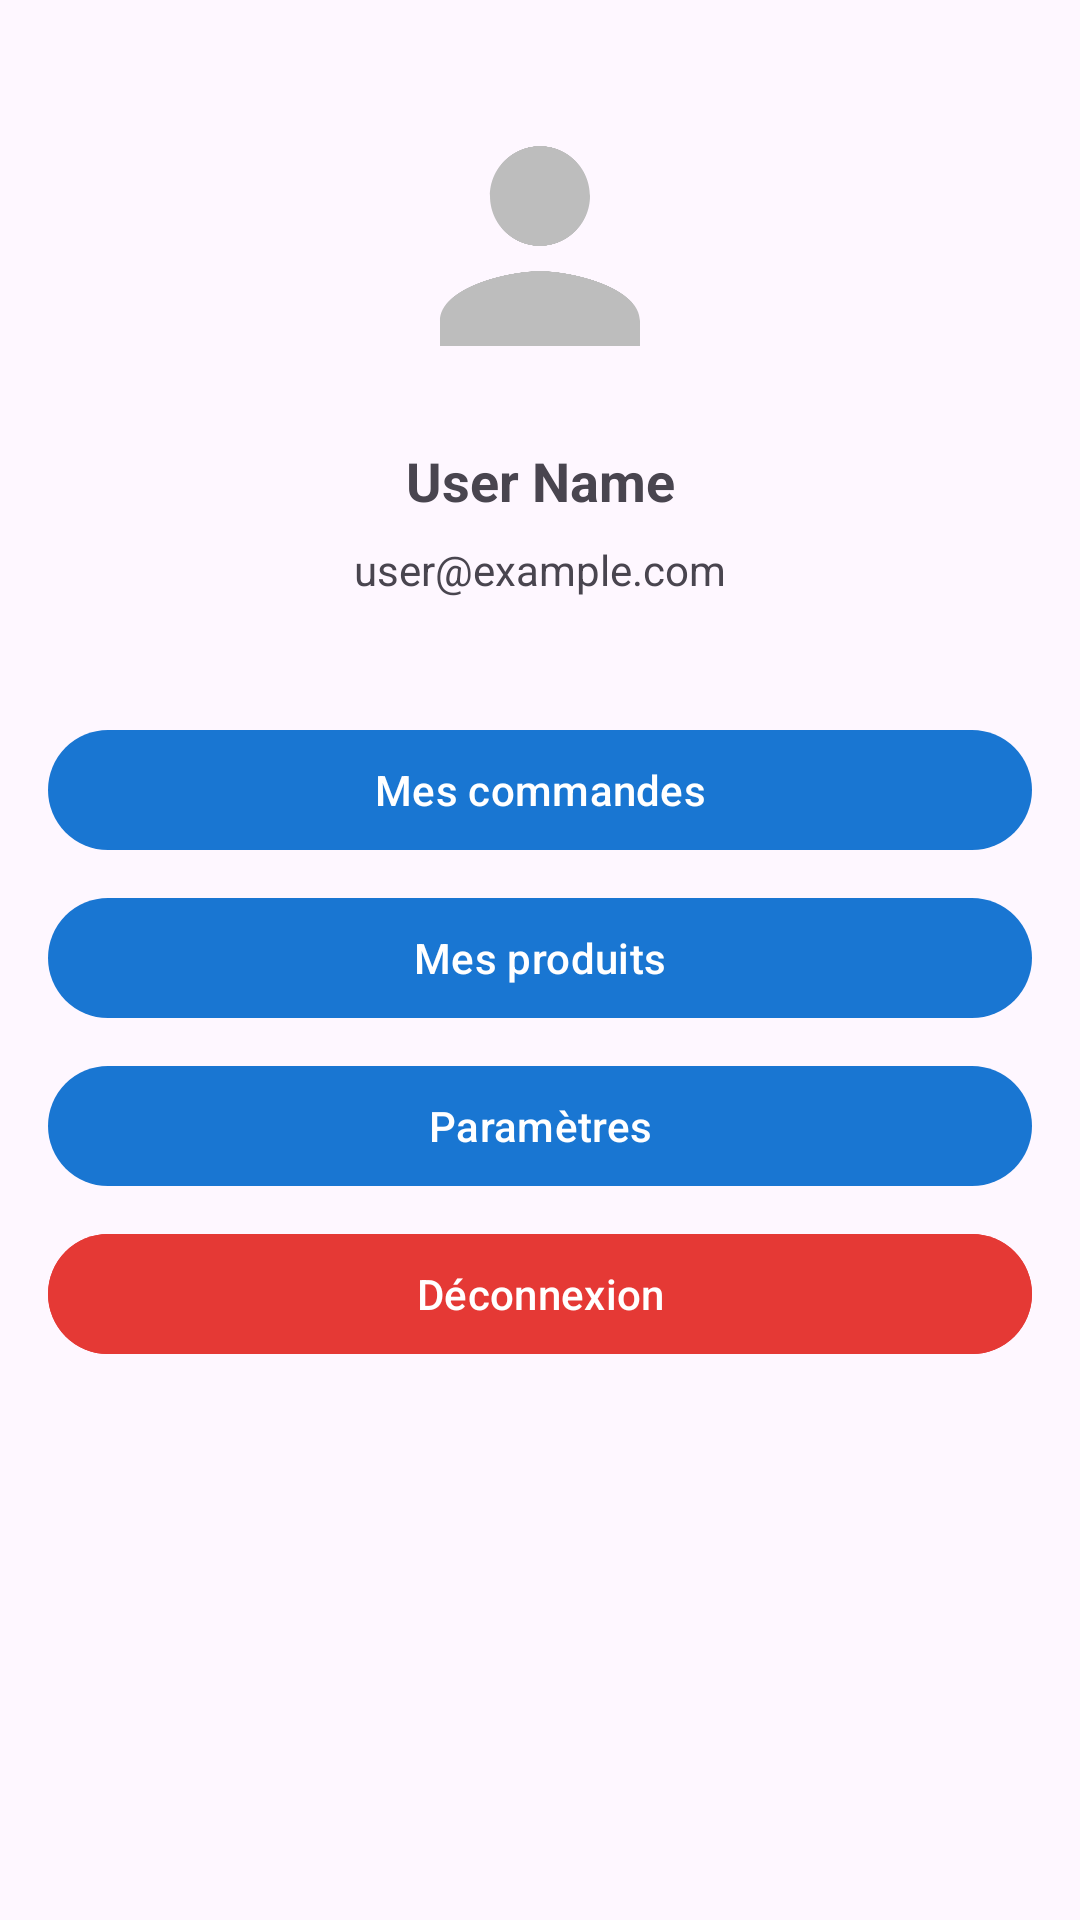

Screen size 1080px×1920px. Icon name, then its center in pixels as [x,y]:
Profile Picture: [540,246]
